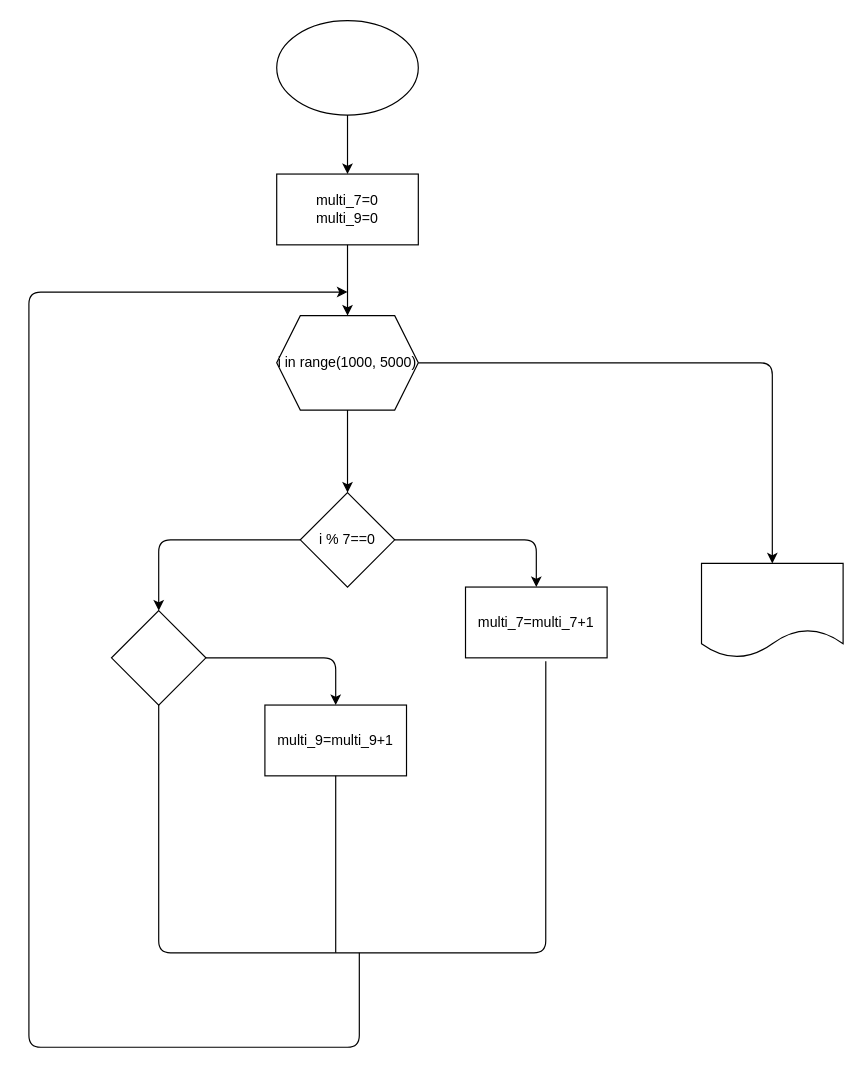
This 864x1077 diagram has some shape labels left out. Each missing label, with the centre of its shape:
i % 9==0: point (158, 657)
INICIO: point (347, 67)
